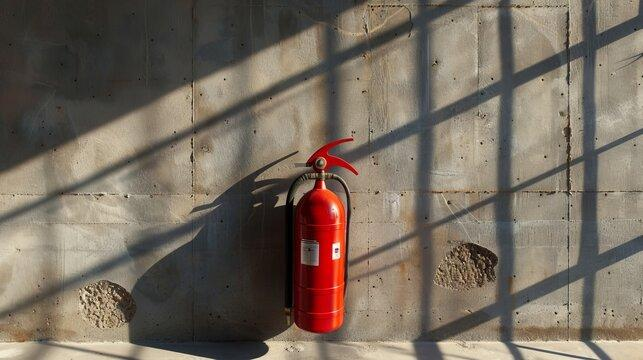wall-mounted: (264, 128, 404, 336)
